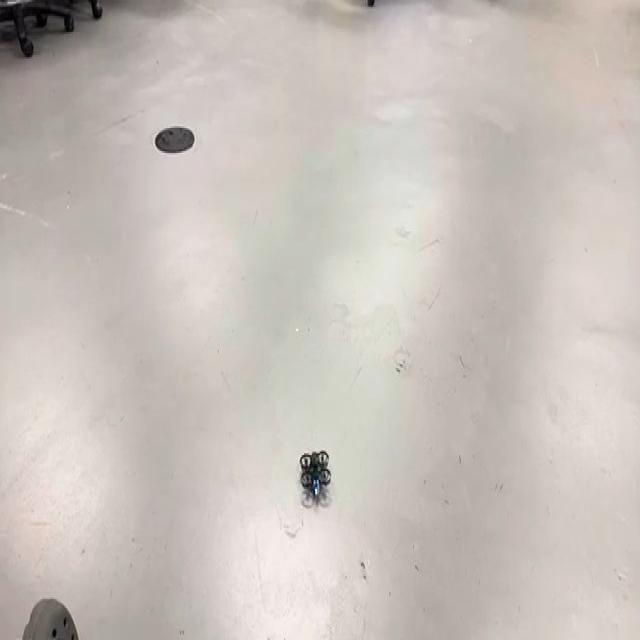drone: (293, 433, 337, 518)
